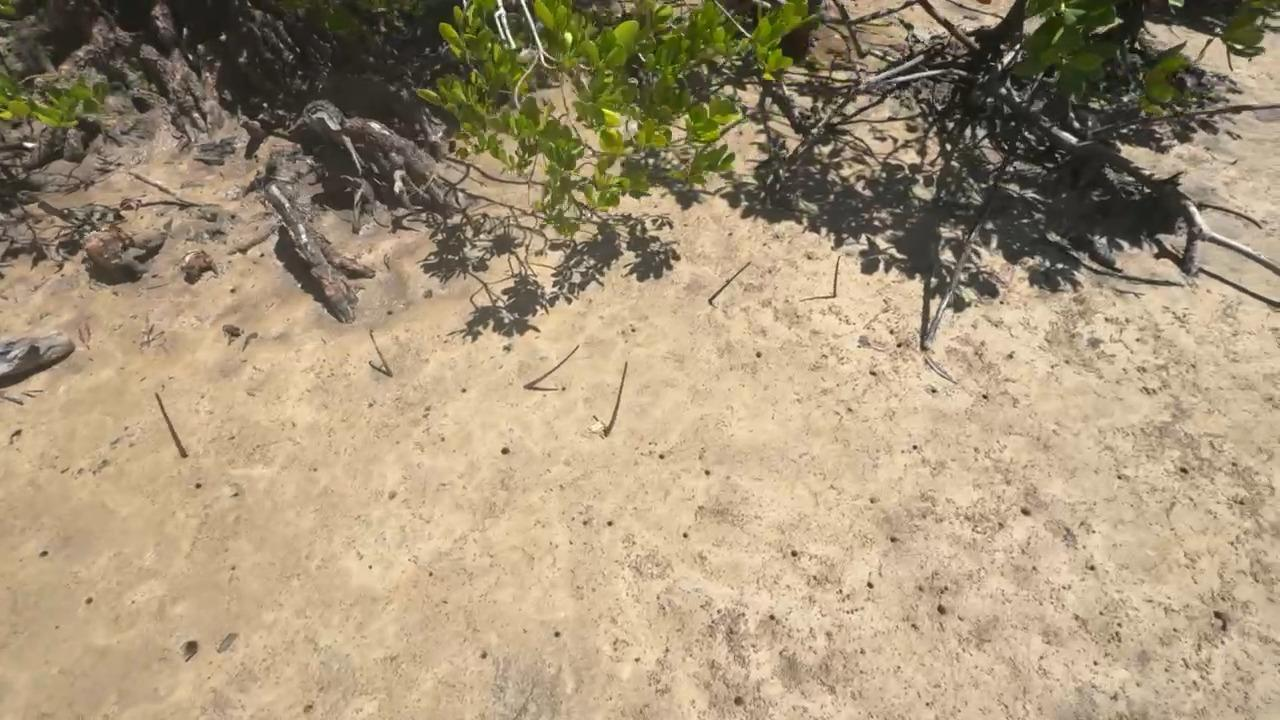Tree: (524, 344, 580, 389), (155, 391, 186, 459), (707, 261, 752, 303), (605, 361, 628, 436), (371, 332, 392, 376), (833, 256, 840, 297)
